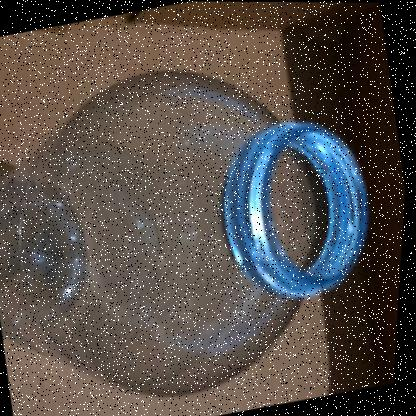open bottle: (39, 22, 416, 416)
